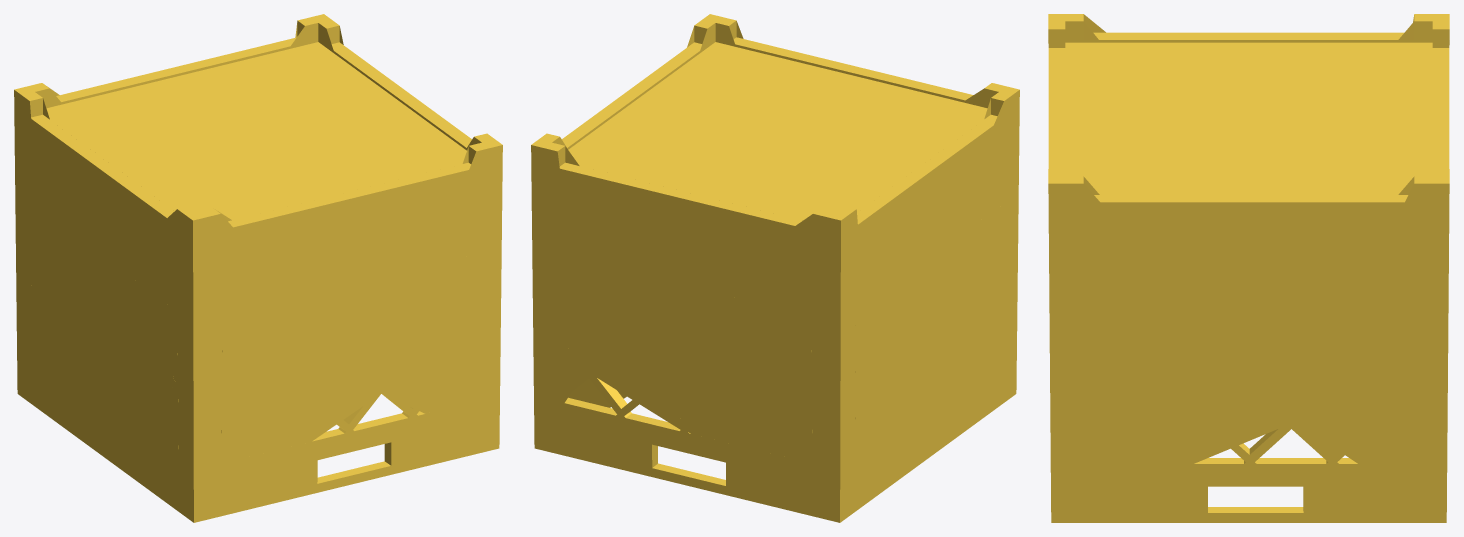
File: WireCrateYellow.fbx
The picture shows the model from 3 angles, left to right: view 1: azimuth 30°, elevation 25°; view 2: azimuth 150°, elevation 25°; view 3: azimuth 270°, elevation 25°; orthographic projection. The views are drawn at different scales.
Parts seen in each view (by area): view 1: Cube.006; view 2: Cube.006; view 3: Cube.006.
Part boxes in pixels (bbox=[...]): Cube.006: bbox=[14, 14, 502, 522]; Cube.006: bbox=[531, 14, 1019, 522]; Cube.006: bbox=[1048, 14, 1449, 522].
Size of the model in its own units: 78.16 by 73.23 by 78.16.
